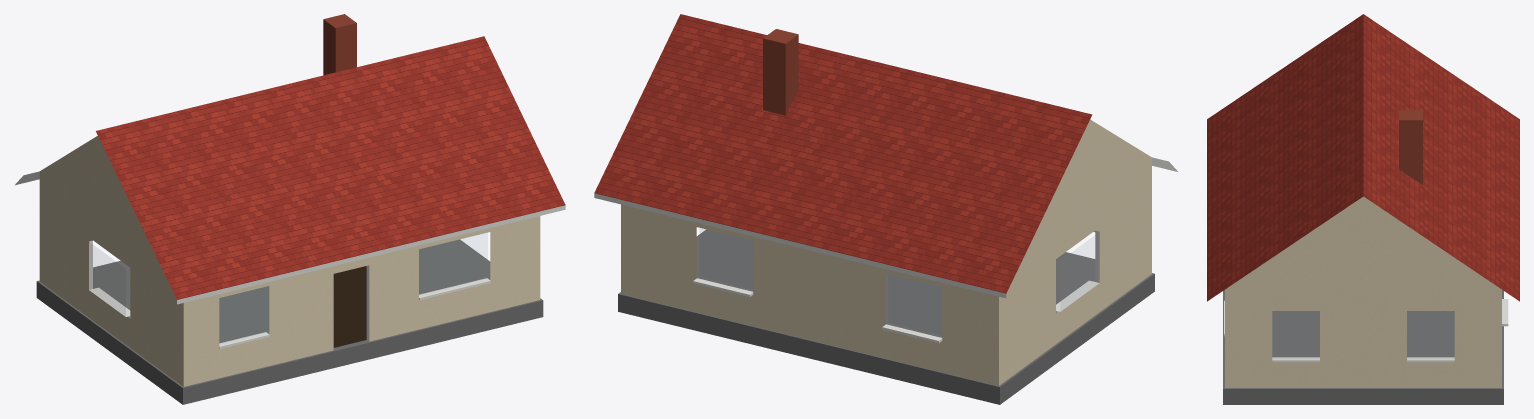
Rendered from house_metadata.glb.
The picture shows the model from 3 angles, left to right: view 1: azimuth 30°, elevation 25°; view 2: azimuth 150°, elevation 25°; view 3: azimuth 270°, elevation 25°; orthographic projection. The views are drawn at different scales.
Visible parts, largest first — view 1: Roof, South wall, West gable, Plinth, Chimney; view 2: Roof, North wall, West gable, Plinth, Chimney; view 3: Roof, East gable, Plinth, Chimney.
Part boxes in pixels (box(x1,y1,x2,y2)): Roof: box(15, 36, 565, 304); South wall: box(183, 216, 540, 386); West gable: box(39, 136, 183, 386); Plinth: box(36, 239, 543, 404); Chimney: box(323, 14, 356, 75); Roof: box(594, 14, 1177, 298); North wall: box(621, 204, 998, 385); West gable: box(999, 119, 1151, 385); Plinth: box(618, 229, 1154, 404); Chimney: box(763, 29, 798, 115); Roof: box(1207, 14, 1519, 301); East gable: box(1225, 196, 1501, 387); Plinth: box(1223, 290, 1503, 404); Chimney: box(1399, 110, 1422, 184).
Size of the model in its own units: 10.9 by 6.7 by 7.9.
Materials: 8 (2 with a texture image).
